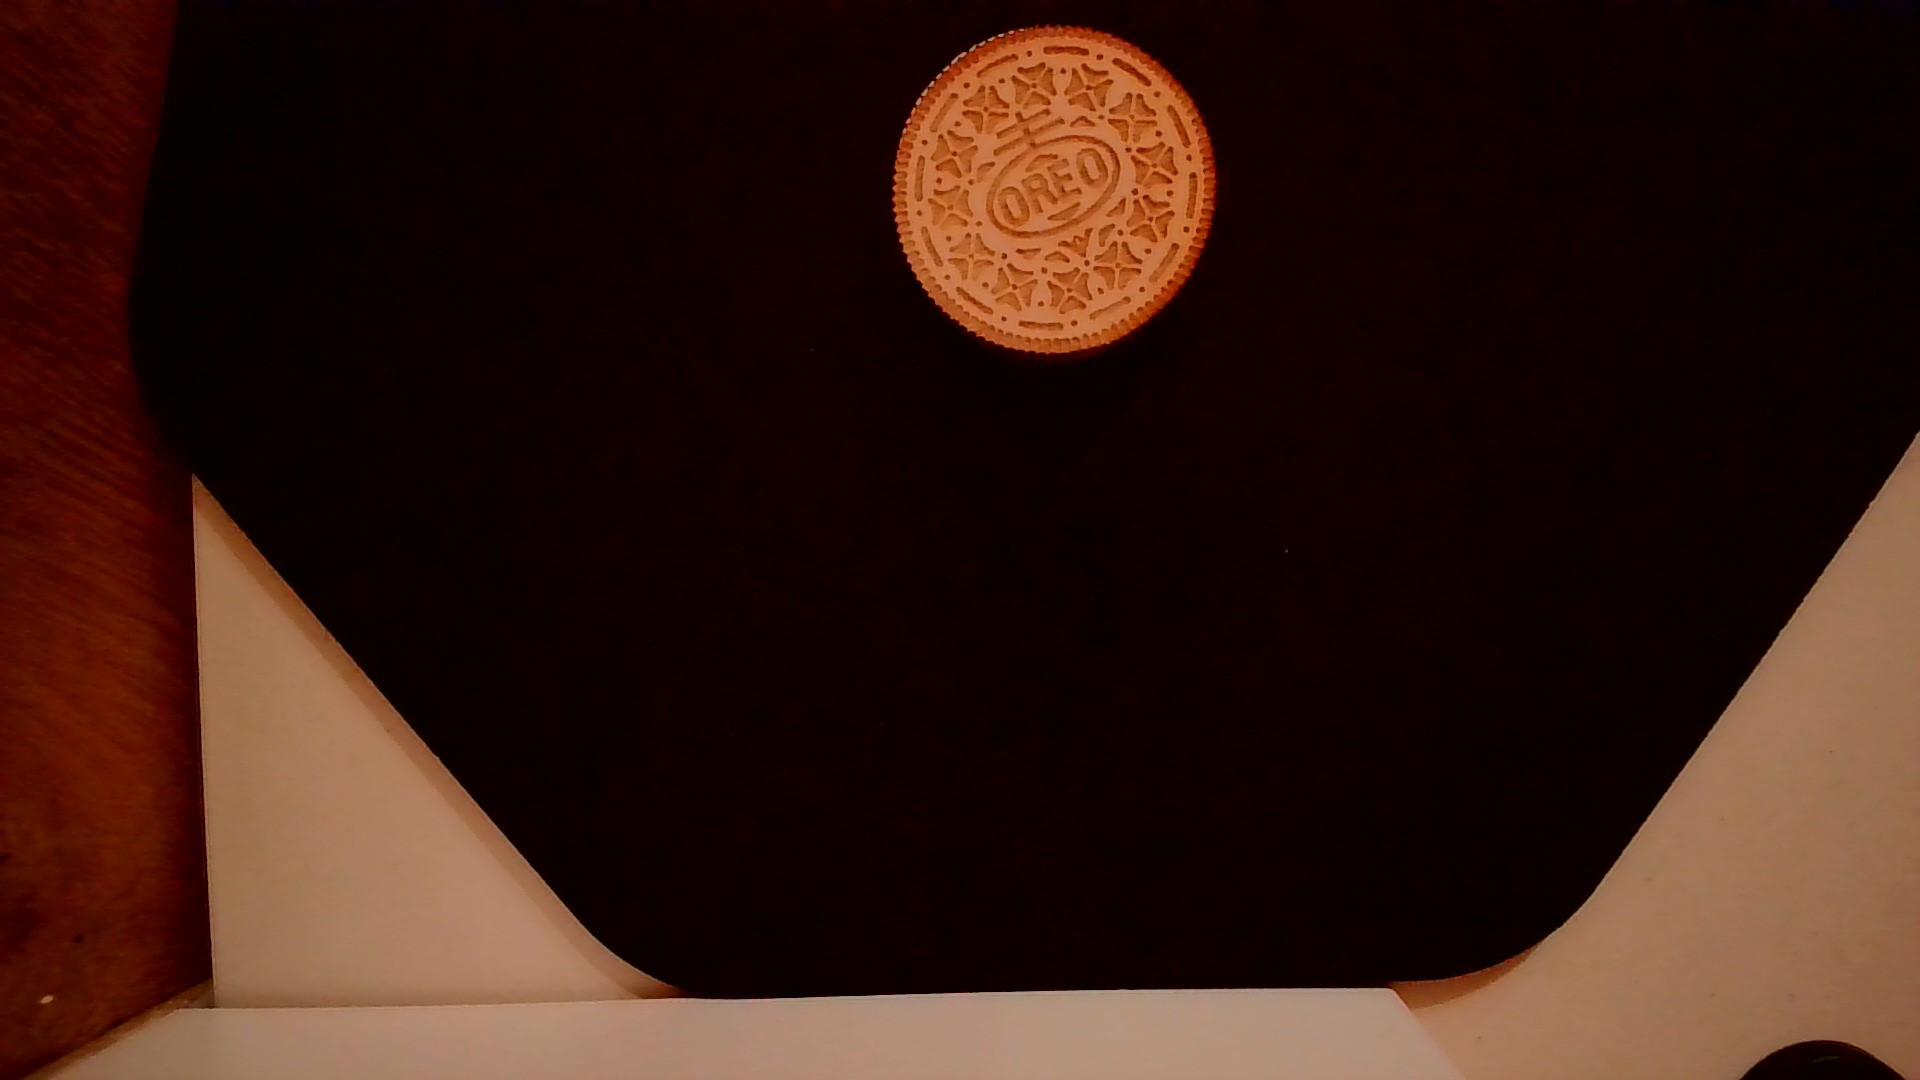Oréo: (882, 18, 1224, 364)
